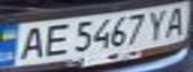4: (90, 16, 115, 51)
5: (69, 18, 97, 54)
6: (109, 14, 133, 48)
7: (124, 11, 151, 45)
A: (12, 24, 51, 61), (160, 3, 193, 38)
E: (36, 20, 72, 57)
Y: (145, 7, 175, 40)
